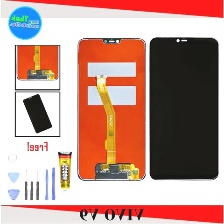phone: (147, 32, 221, 181), (75, 36, 146, 182), (20, 92, 53, 134)
